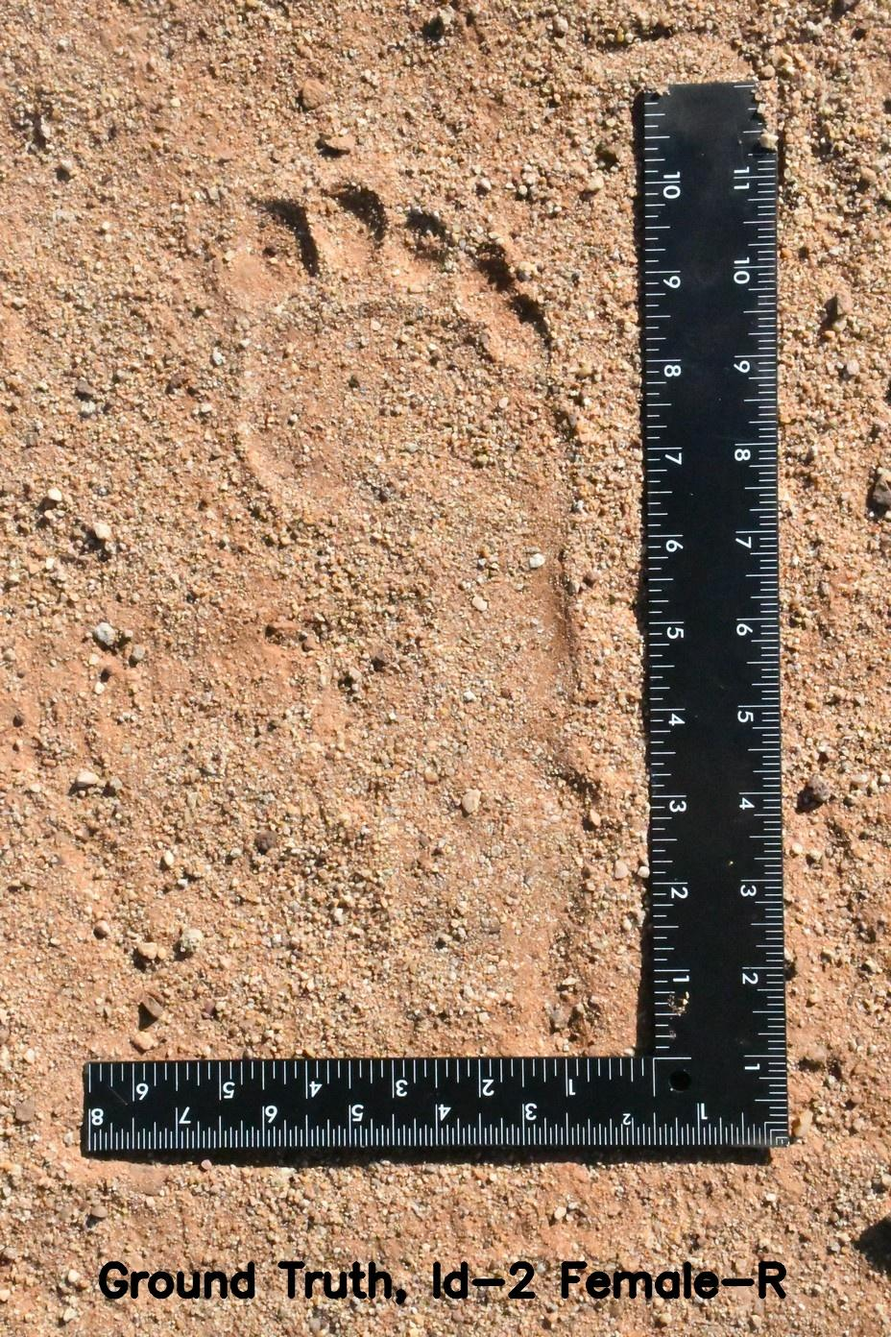human_footprint: (193, 154, 615, 1027)
